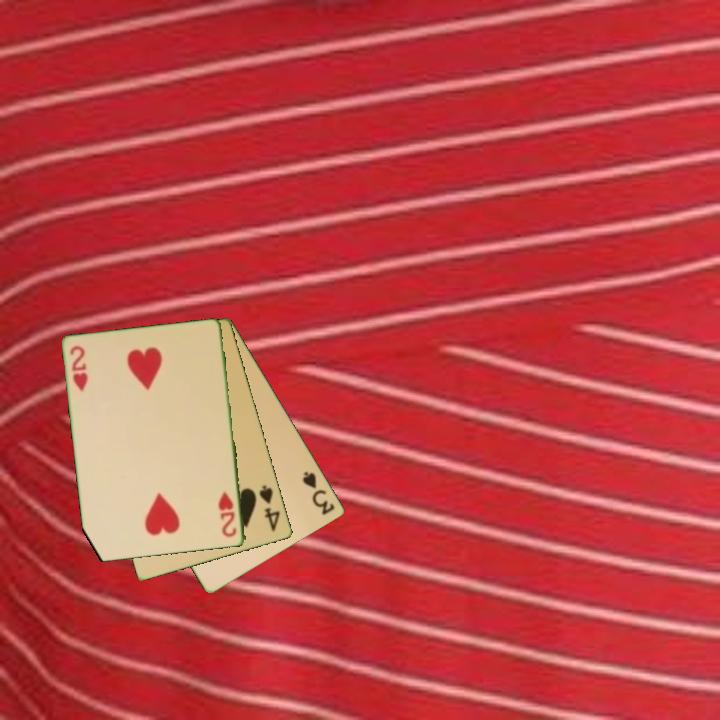2h: (215, 488, 240, 540), (67, 342, 91, 395)
3s: (299, 468, 338, 518)
4s: (256, 482, 283, 535)
